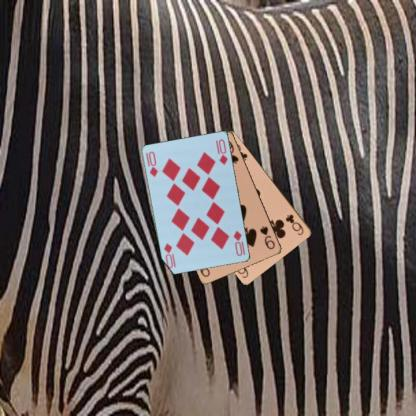10d: (144, 149, 160, 179), (231, 228, 247, 257)
6c: (283, 212, 305, 236)
9s: (258, 223, 276, 250)
